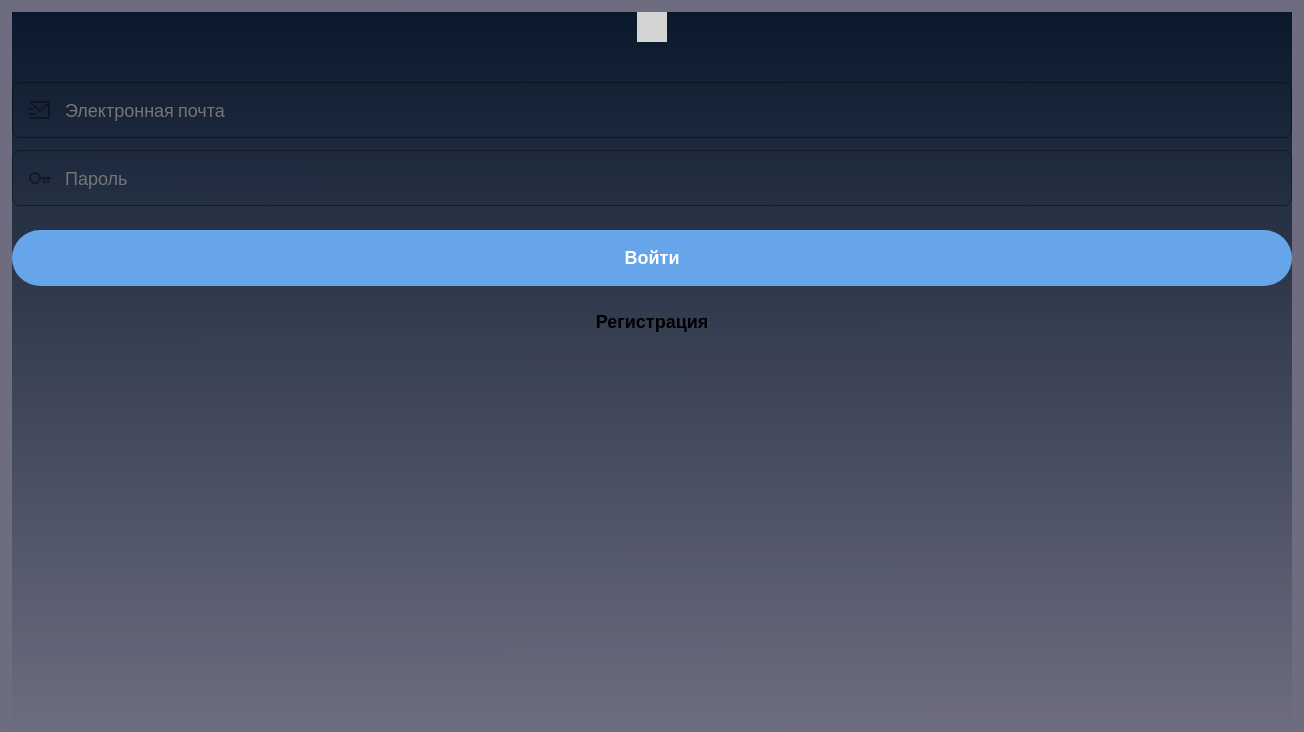
AuthForm Component › должен переключаться на форму регистрации
The width and height of the screenshot is (1304, 732).
Click the button "Регистрация". click: {"x": 652, "y": 322}
box: [12,310,1292,334]
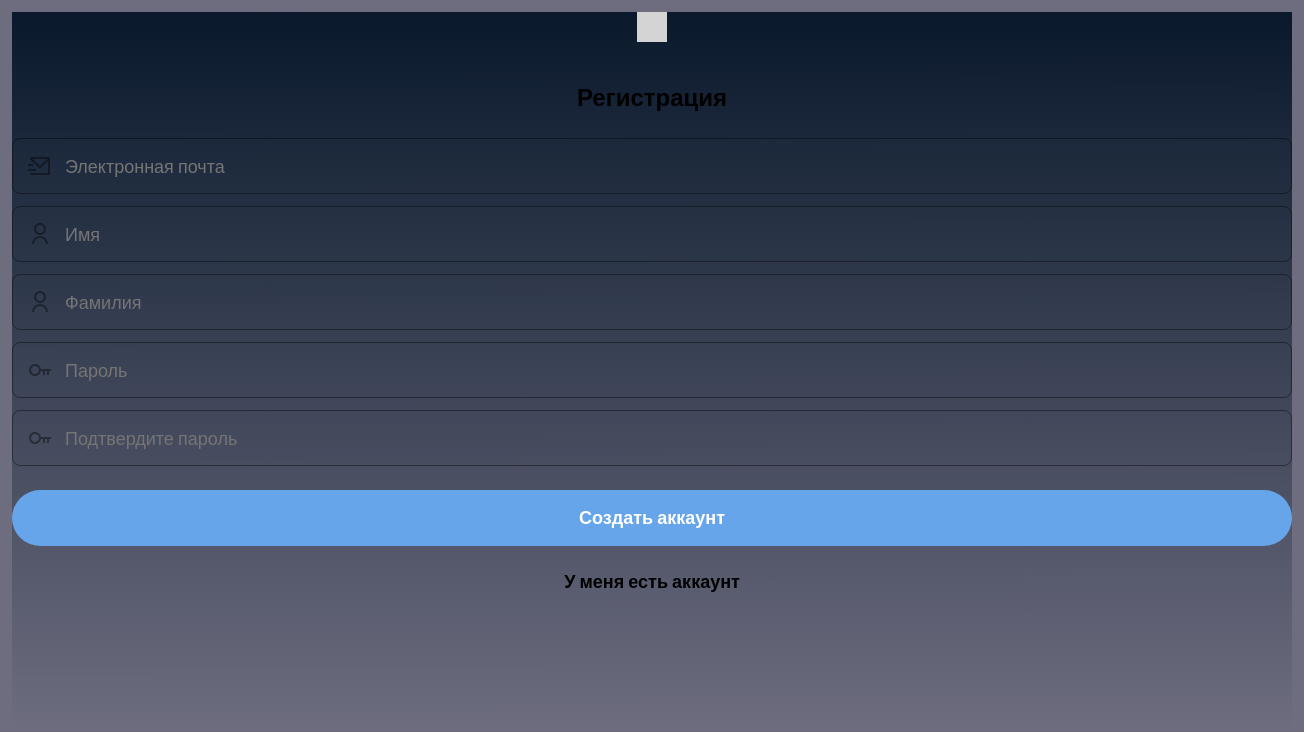
Expected: the heading "Регистрация" is shown, [577,82,727,114]
Expected: the field with placeholder "Имя" is shown, [12,206,1292,262]
